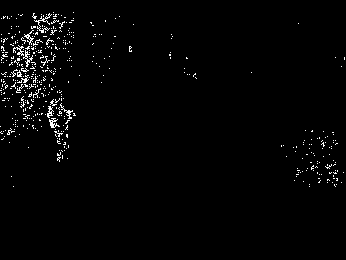person: (48, 96, 77, 161)
